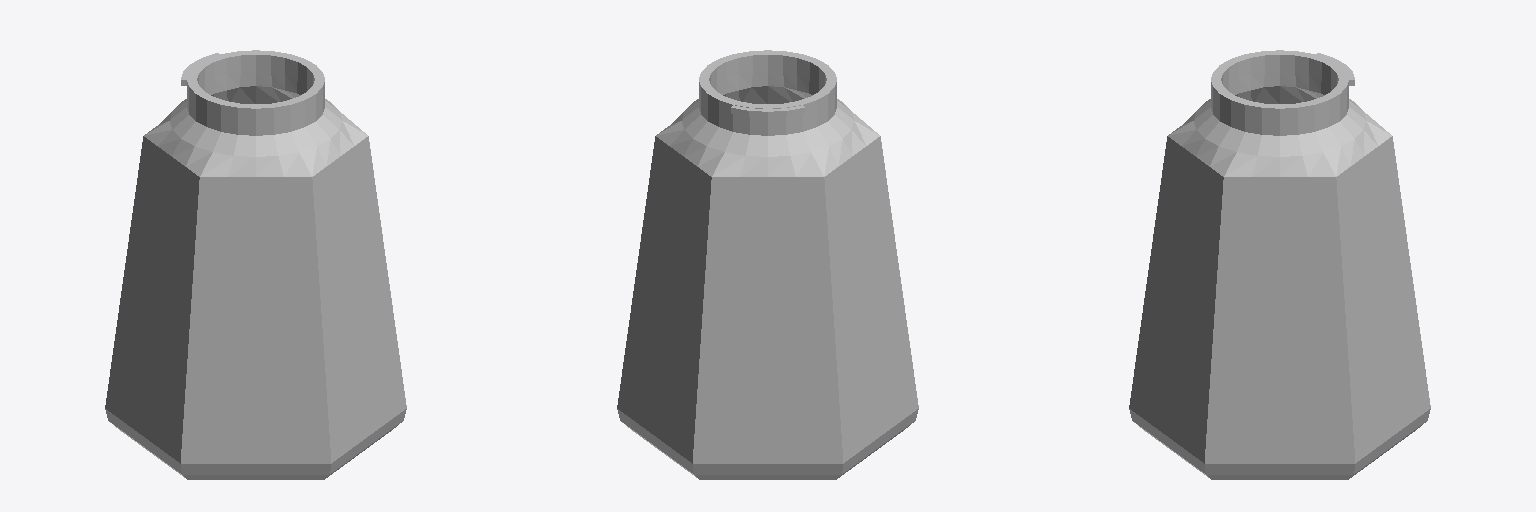
File: body.obj
3 renders of one model, left to right at view 1: azimuth 30°, elevation 25°; view 2: azimuth 150°, elevation 25°; view 3: azimuth 270°, elevation 25°, orthographic.
Parts seen in each view (by area): view 1: Body.002; view 2: Body.002; view 3: Body.002.
Boxes of the visible parts, x1,y1,x2,y2 form: Body.002: [105, 50, 406, 479]; Body.002: [617, 50, 918, 479]; Body.002: [1129, 50, 1430, 479].
Bounding box in the file's own units: 42.69 × 63.58 × 49.29.